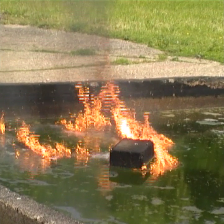fire_h: (58, 82, 180, 176), (15, 120, 69, 167)
fire_l: (75, 144, 90, 162), (1, 117, 6, 134)
